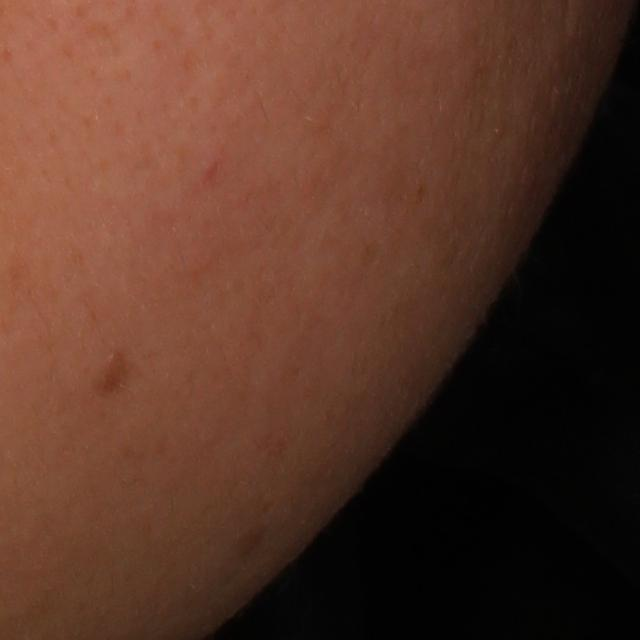nevus: (92, 344, 132, 397)
